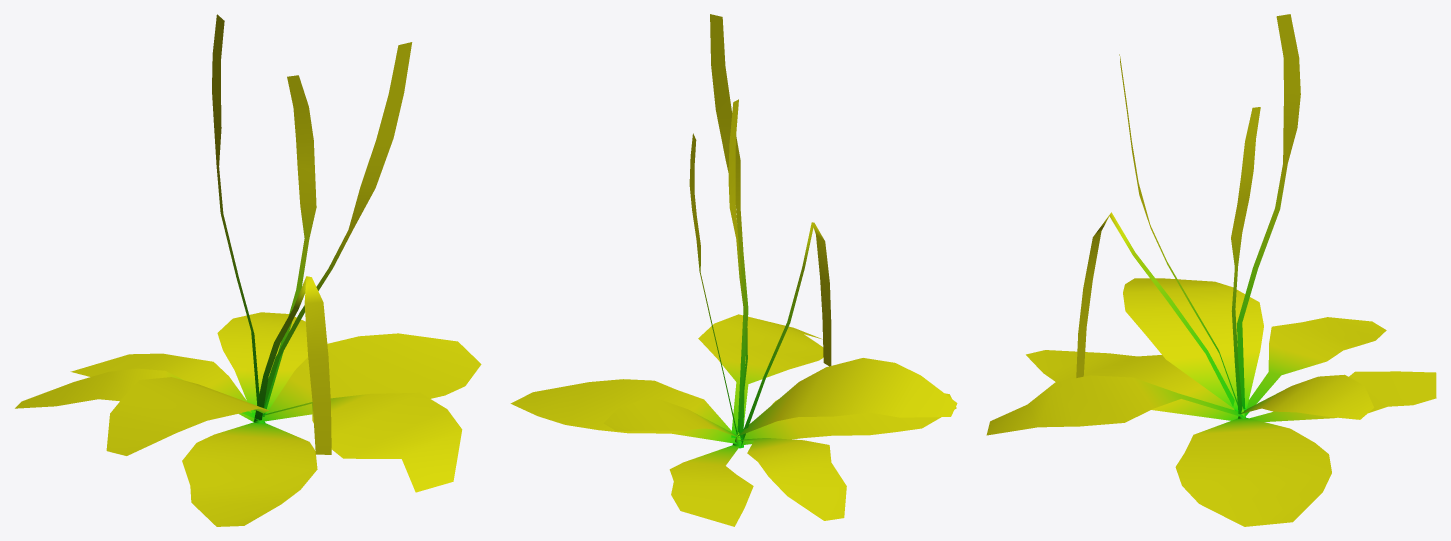
The model's file is Broadleaf Plantain_LOD1_Var3_sfhjc.fbx.
3 views of the same model, side by side, from view 1: azimuth 30°, elevation 25°; view 2: azimuth 150°, elevation 25°; view 3: azimuth 270°, elevation 25° (orthographic). The views are drawn at different scales.
Parts seen in each view (by area): view 1: _b609_Var3_LOD1; view 2: _b609_Var3_LOD1; view 3: _b609_Var3_LOD1.
Part boxes in pixels (<box>): _b609_Var3_LOD1: <box>15,14,481,526</box>; _b609_Var3_LOD1: <box>510,14,957,526</box>; _b609_Var3_LOD1: <box>986,14,1436,526</box>.
Size of the model in its own units: 22.22 by 20.66 by 20.69.
